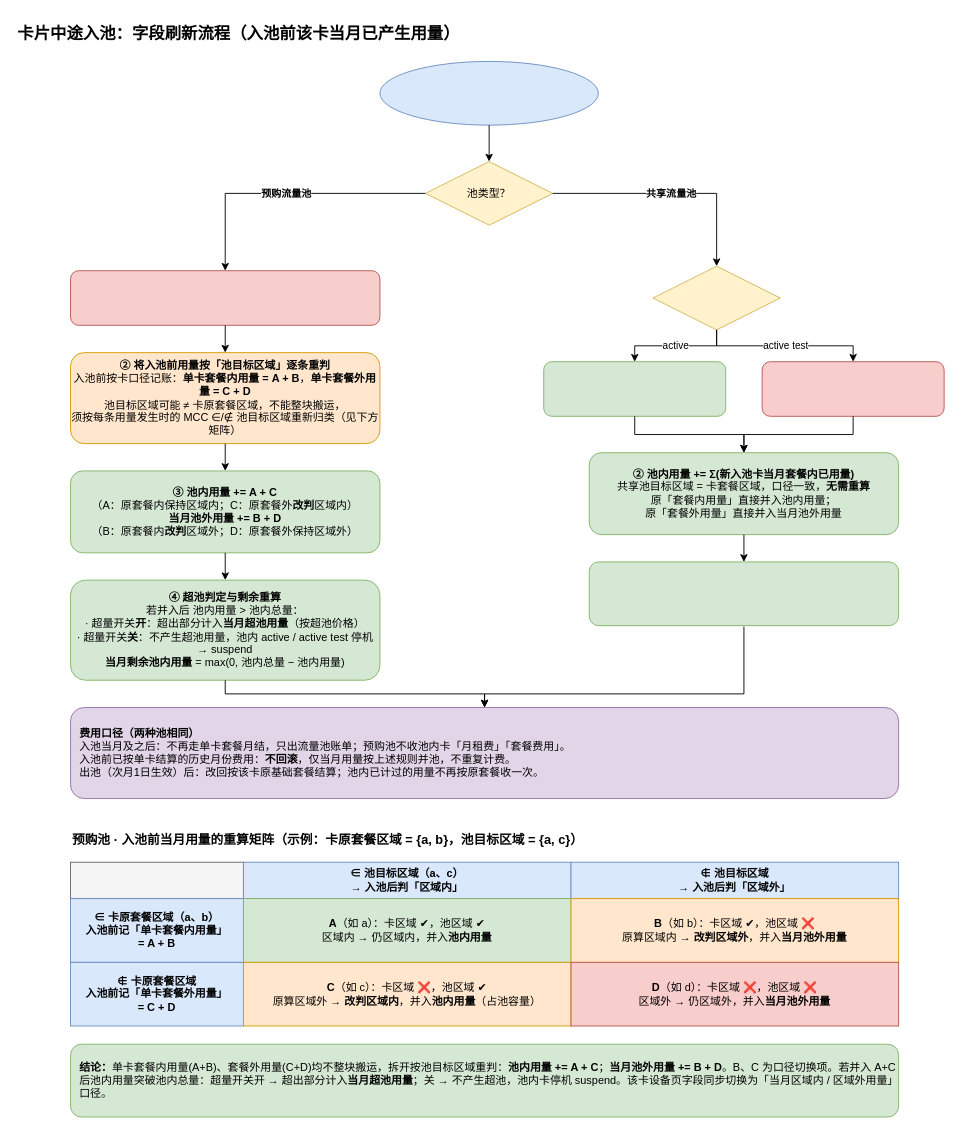
This 960x1133 diagram has some shape labels left out. The shapes that lost their labels are listed below. From the top down, each one's centre as x and y in pixels, then its label:
At point (488, 93): "卡片中途入池成功 （入池前当月已产生用量： 单卡套餐内 + 单卡套餐外）".
At point (225, 297): "① 池内总量：不变 （建池锁定，入池不扩容）".
At point (716, 297): "卡状态？".
At point (634, 388): "① 池内总量 += active 卡数 × 单卡额度".
At point (852, 388): "① 池内总量：不变 （active test 不增加容量）".
At point (743, 593): "③ 当月剩余池内用量 = max(0, 池内总量 − 池内用量)".
At point (156, 880): "用量发生时的 MCC".
